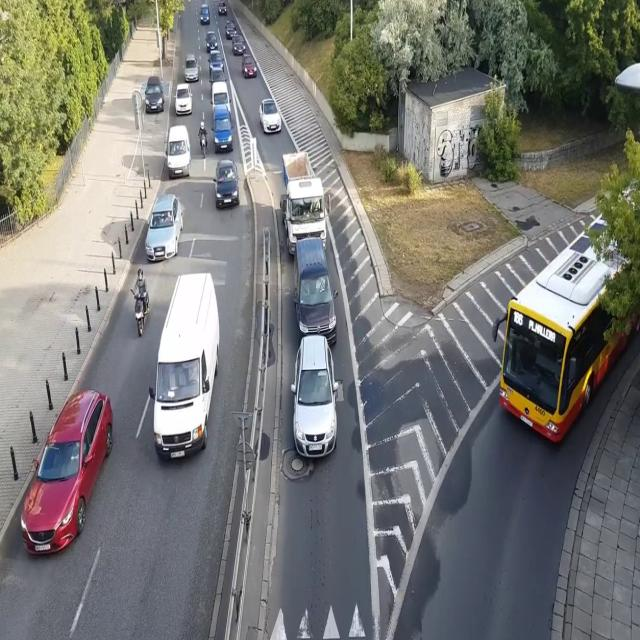bus: (491, 190, 640, 445)
car: (20, 390, 114, 556), (290, 334, 339, 460), (144, 194, 184, 263), (212, 160, 240, 208), (259, 96, 282, 137), (144, 74, 164, 114), (175, 81, 193, 115), (183, 51, 200, 83), (240, 52, 259, 79), (207, 51, 225, 74), (231, 32, 246, 56), (210, 68, 228, 85), (205, 30, 218, 50), (225, 20, 238, 39), (216, 0, 228, 16)
motorcycle: (129, 266, 151, 340), (198, 122, 208, 158)
truck: (279, 151, 333, 260)
van: (148, 273, 221, 467), (290, 239, 338, 350), (164, 124, 192, 179), (211, 105, 233, 153), (210, 80, 232, 120), (200, 2, 210, 25)
